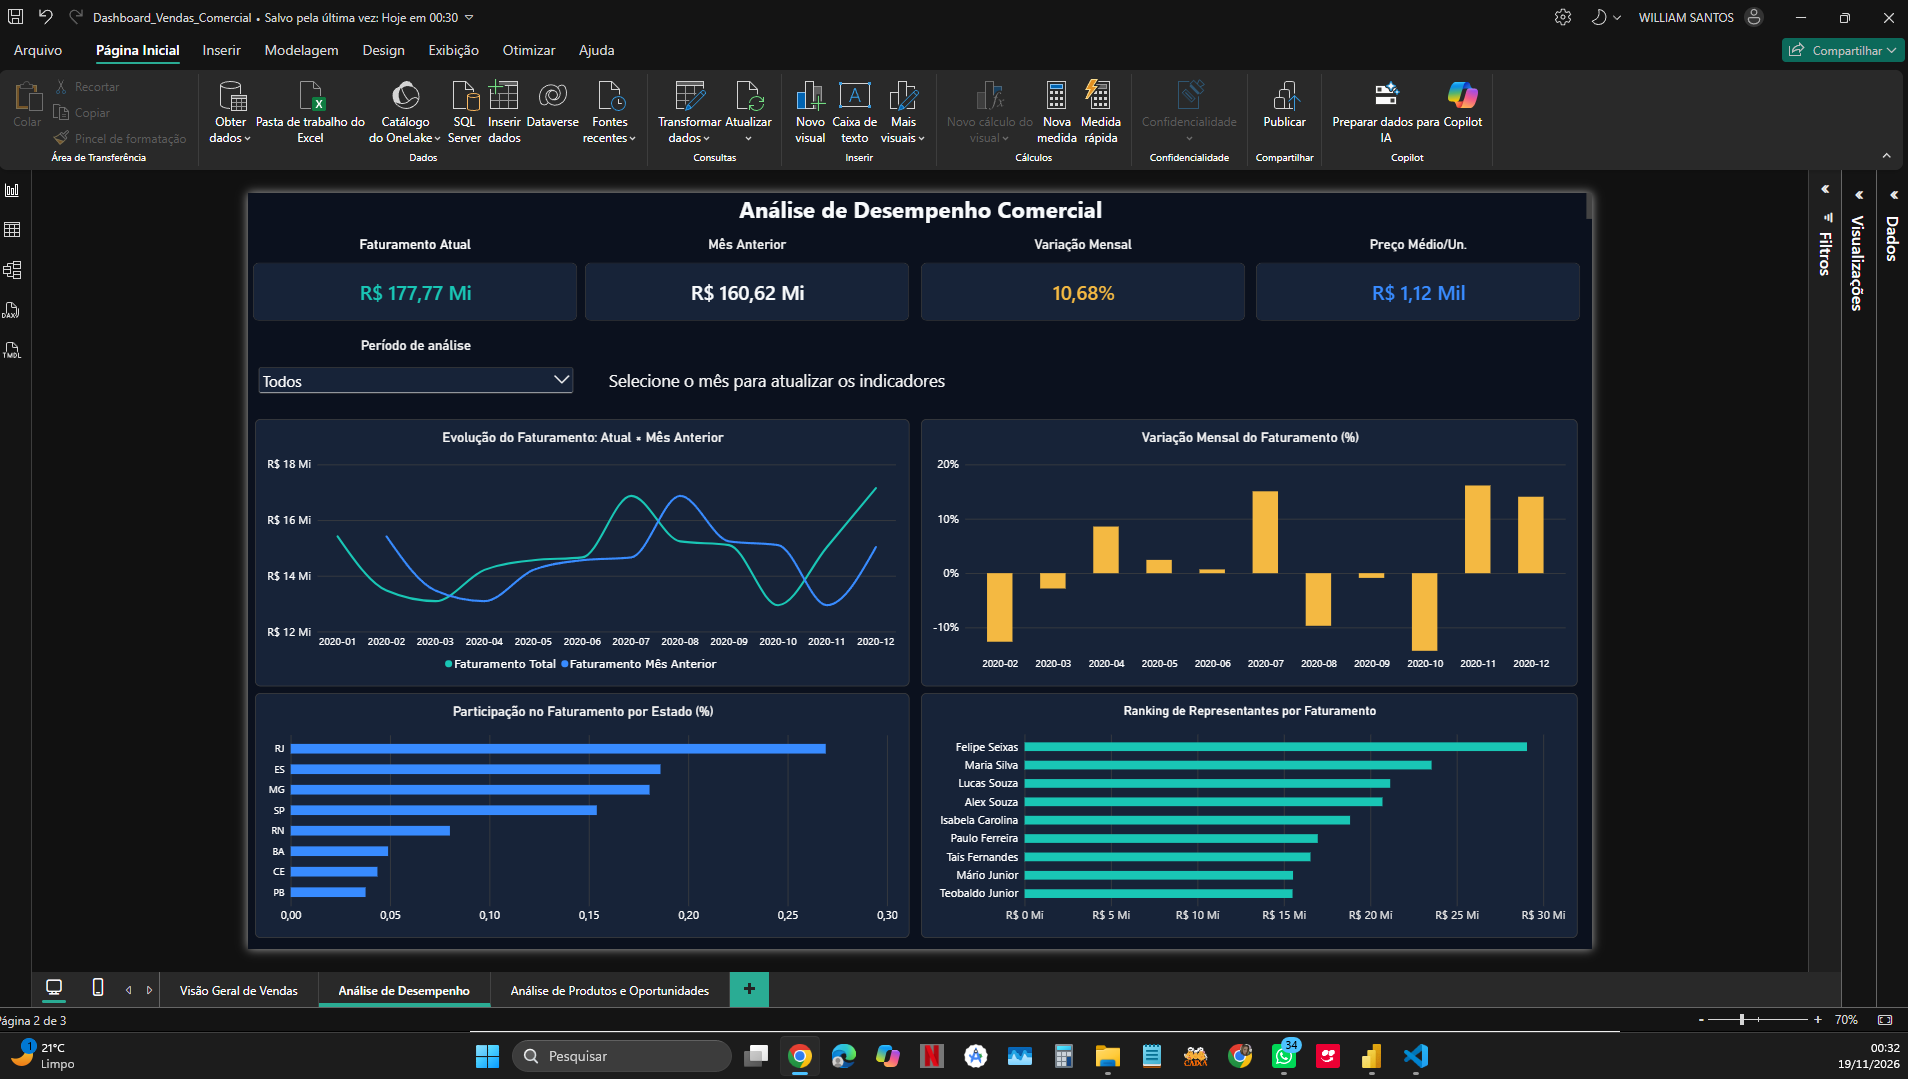

What the dashboard file says about the page in this screenshot:
{"tool":"powerbi","page":{"name":"Análise de Desempenho","canvas":[1920,1080],"ordinal":1},"visuals":[{"type":"textbox","box":[10,0,1910,48.3],"z":0},{"type":"cardVisual","title":"Faturamento Atual","fields":{"Data":["Tabela de Vendas.Faturamento Total"]},"box":[6.7,61.7,463.3,121.7],"z":1000},{"type":"cardVisual","title":"Mês Anterior","fields":{"Data":["Tabela de Vendas.Faturamento Mês Anterior"]},"box":[481.7,61.7,463.3,121.7],"z":2000},{"type":"cardVisual","title":"Variação Mensal","fields":{"Data":["Tabela de Vendas.Variação Mensal %"]},"box":[961.7,61.7,463.3,121.7],"z":3000},{"type":"cardVisual","title":"Preço Médio/Un.","fields":{"Data":["Tabela de Vendas.Preço Médio por Unidade"]},"box":[1440,61.7,463.3,121.7],"z":4000},{"type":"slicer","title":"Período de análise","fields":{"Values":["Calendario.AnoMes"]},"box":[10,205,460,91.7],"z":5000},{"type":"textbox","box":[481.7,251.7,548.3,45],"z":6000},{"type":"lineChart","title":"Evolução do Faturamento: Atual × Mês Anterior","fields":{"Category":["Calendario.AnoMes"],"Y":["Tabela de Vendas.Faturamento Total","Tabela de Vendas.Faturamento Mês Anterior"]},"box":[10,323.3,935,381.7],"z":7000},{"type":"columnChart","title":"Variação Mensal do Faturamento (%)","fields":{"Category":["Calendario.AnoMes"],"Y":["Tabela de Vendas.Variação Mensal %"]},"box":[961.7,323.3,938.3,381.7],"z":8000},{"type":"barChart","title":"Participação no Faturamento por Estado (%)","fields":{"Category":["Tabela de Vendas.UF_Padronizada"],"Y":["Tabela de Vendas.Participação Estado %"]},"box":[10,715,935,350],"z":9000},{"type":"barChart","title":"Ranking de Representantes por Faturamento","fields":{"Category":["Tabela de Vendas.Nome_Representante"],"Y":["Tabela de Vendas.Faturamento Total"]},"box":[962,715,938,350],"z":10000}]}

Visuals, with their boxes on the page's 1920x1080 design canvas (x1, y1, x2, y2). These are canvas units, not pixel positions in the 1908x1079 screenshot, which may show the page scaled, cropped or inside an application window:
textbox: (left=10, top=0, right=1920, bottom=48)
"Faturamento Atual" cardVisual: (left=7, top=62, right=470, bottom=183)
"Mês Anterior" cardVisual: (left=482, top=62, right=945, bottom=183)
"Variação Mensal" cardVisual: (left=962, top=62, right=1425, bottom=183)
"Preço Médio/Un." cardVisual: (left=1440, top=62, right=1903, bottom=183)
"Período de análise" slicer: (left=10, top=205, right=470, bottom=297)
textbox: (left=482, top=252, right=1030, bottom=297)
"Evolução do Faturamento: Atual × Mês Anterior" lineChart: (left=10, top=323, right=945, bottom=705)
"Variação Mensal do Faturamento (%)" columnChart: (left=962, top=323, right=1900, bottom=705)
"Participação no Faturamento por Estado (%)" barChart: (left=10, top=715, right=945, bottom=1065)
"Ranking de Representantes por Faturamento" barChart: (left=962, top=715, right=1900, bottom=1065)
